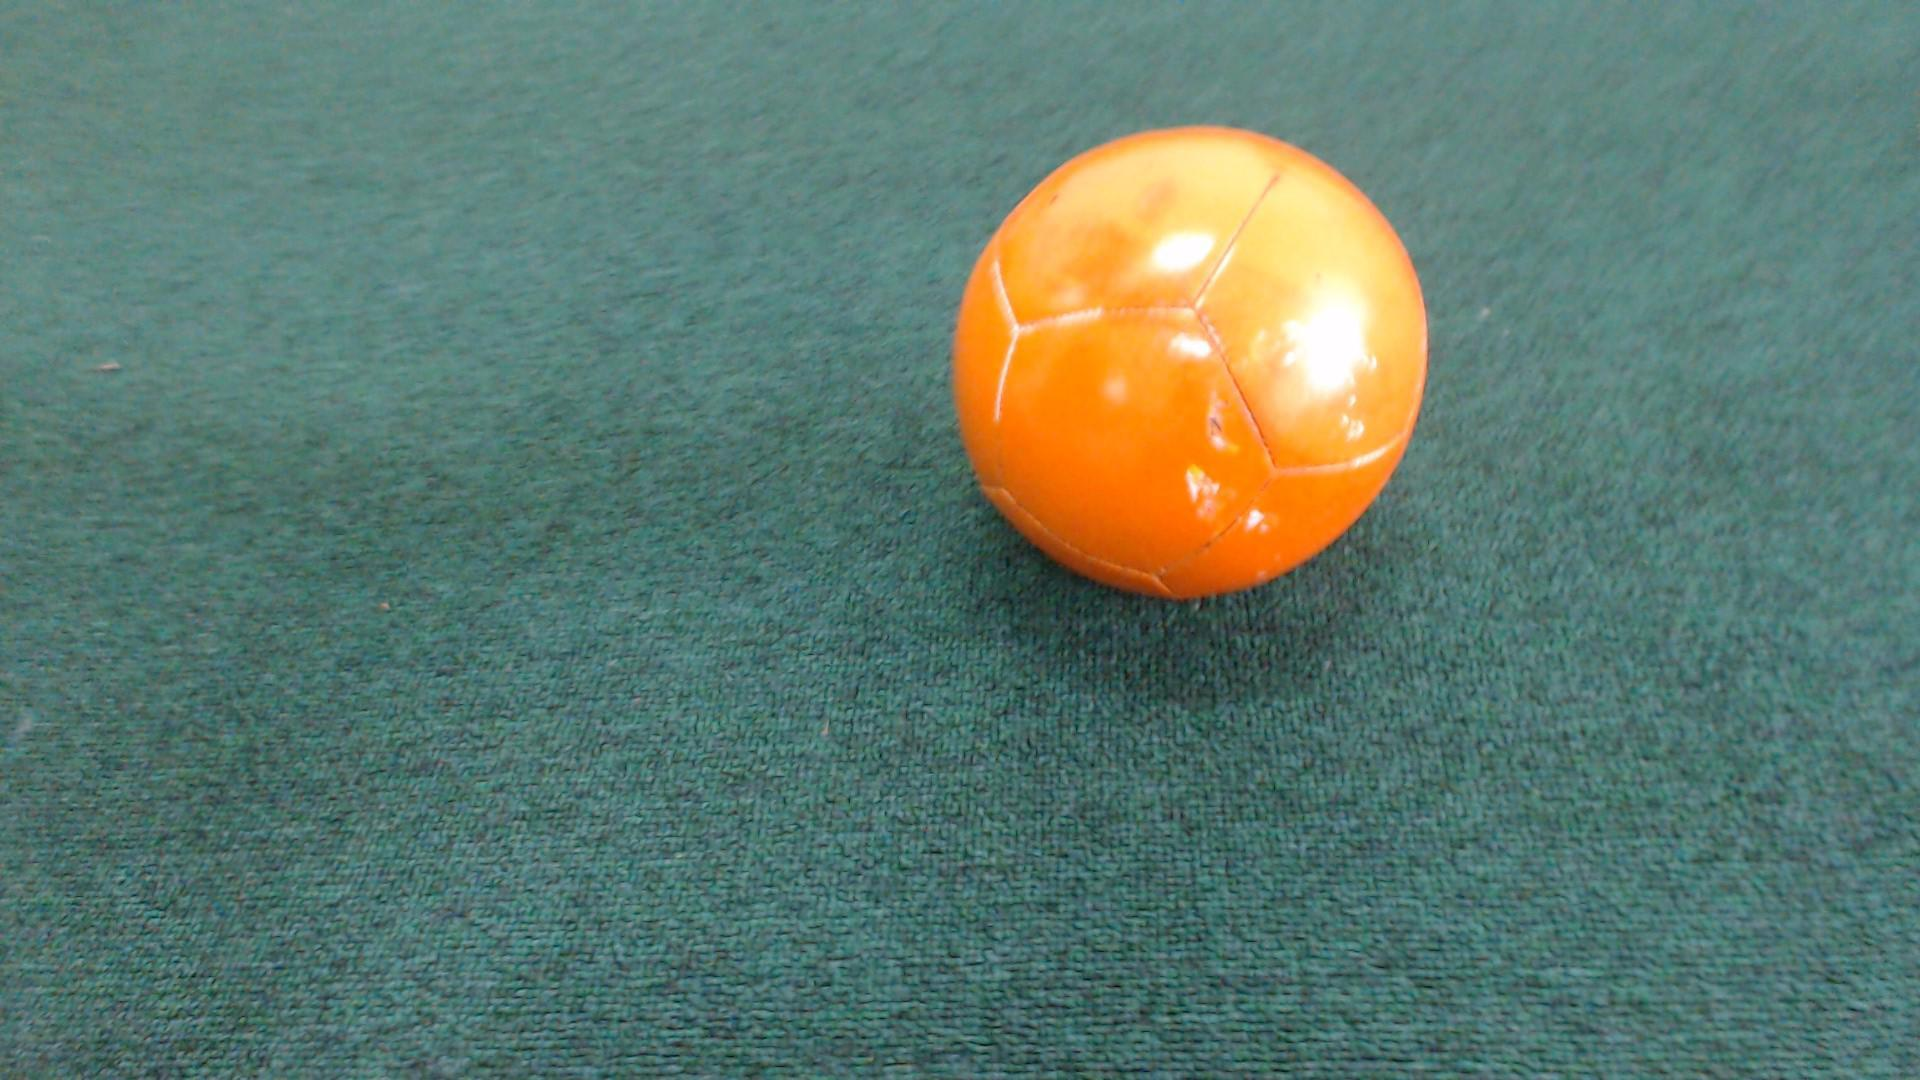bola: (936, 109, 1429, 637)
